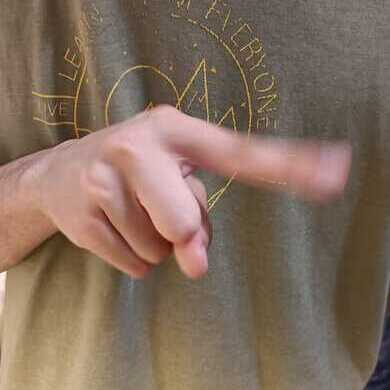Z: (56, 103, 352, 283)
